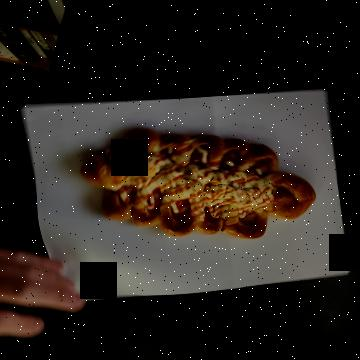pizza_bread: (132, 36, 242, 278)
